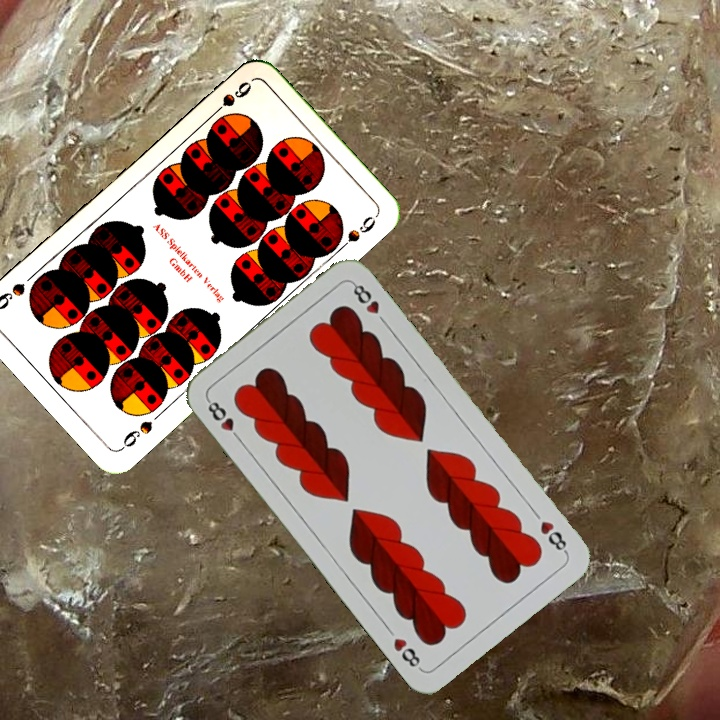H8: (203, 394, 245, 444), (536, 516, 571, 556)
S9: (205, 77, 254, 121), (116, 416, 155, 453)
